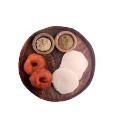idly: (53, 69, 79, 94), (64, 52, 89, 72), (62, 60, 83, 79)
